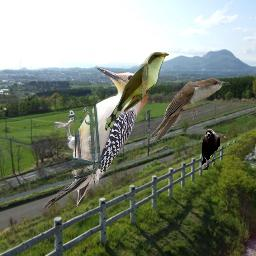Crow: (201, 129, 220, 170)
Cuckoo: (147, 78, 230, 141), (105, 52, 169, 131)
Woodpecker: (41, 64, 152, 213)
